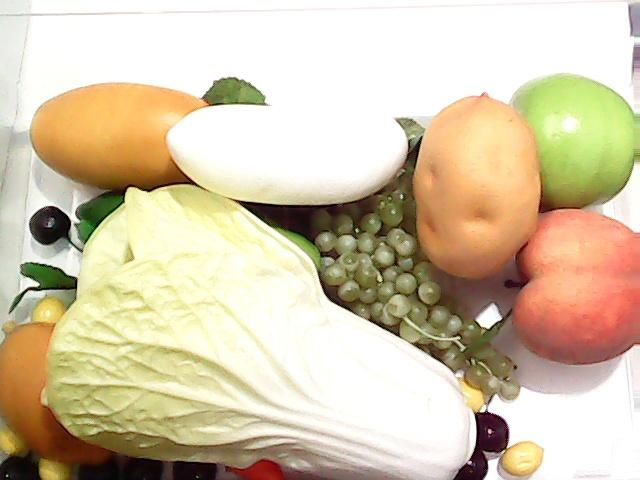apple: (486, 69, 638, 203)
carrot: (224, 452, 284, 476)
grape: (302, 190, 520, 403)
lemon: (5, 324, 99, 460)
mango: (19, 78, 264, 206)
napa cabbage: (32, 188, 486, 476)
peach: (504, 201, 640, 369)
pepper: (70, 190, 324, 290)
potato: (412, 88, 542, 281)
radish: (165, 100, 412, 204)
